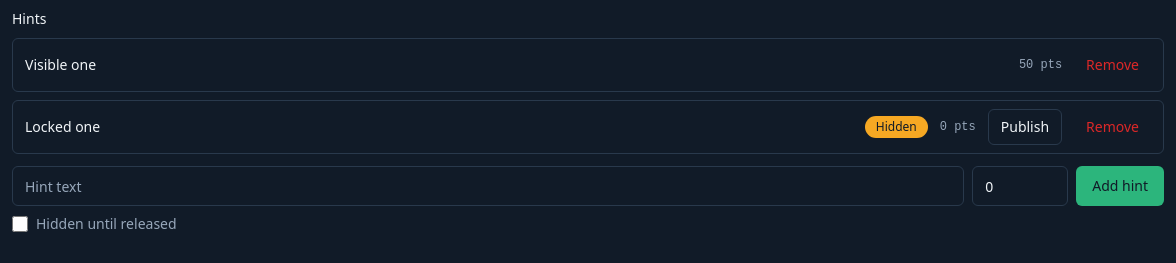
it: HintsSection — hidden/scheduled hints (#213) › reveals the schedule field only when 'hidden until released' is checked
The image size is (1176, 263).
Click the checkbox labelled "Hidden until released": (20, 224) [12,216,28,232]
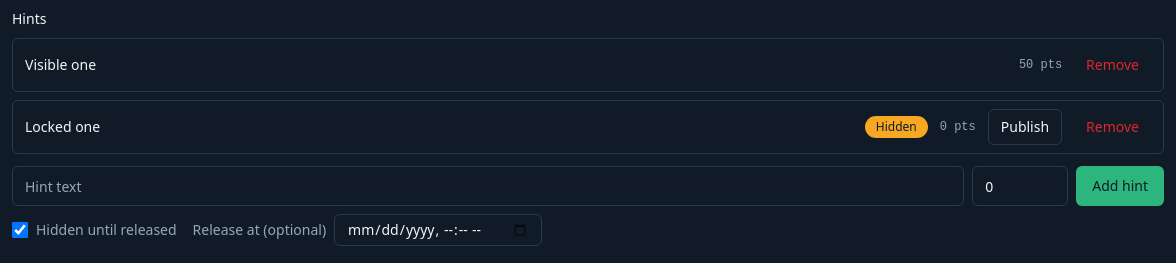
Expected: the field named "Hint release time" is shown, [334,214,542,246]
